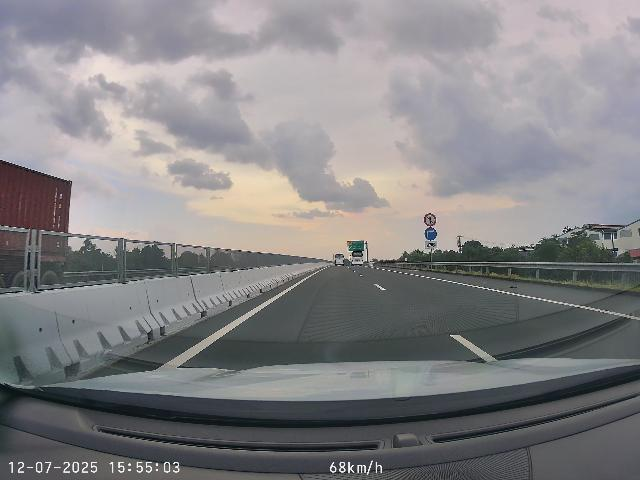136-cam-di-thang: (424, 213, 437, 227)
301d-cac-xe-chi-duoc-re-phai-2: (425, 227, 437, 240)
